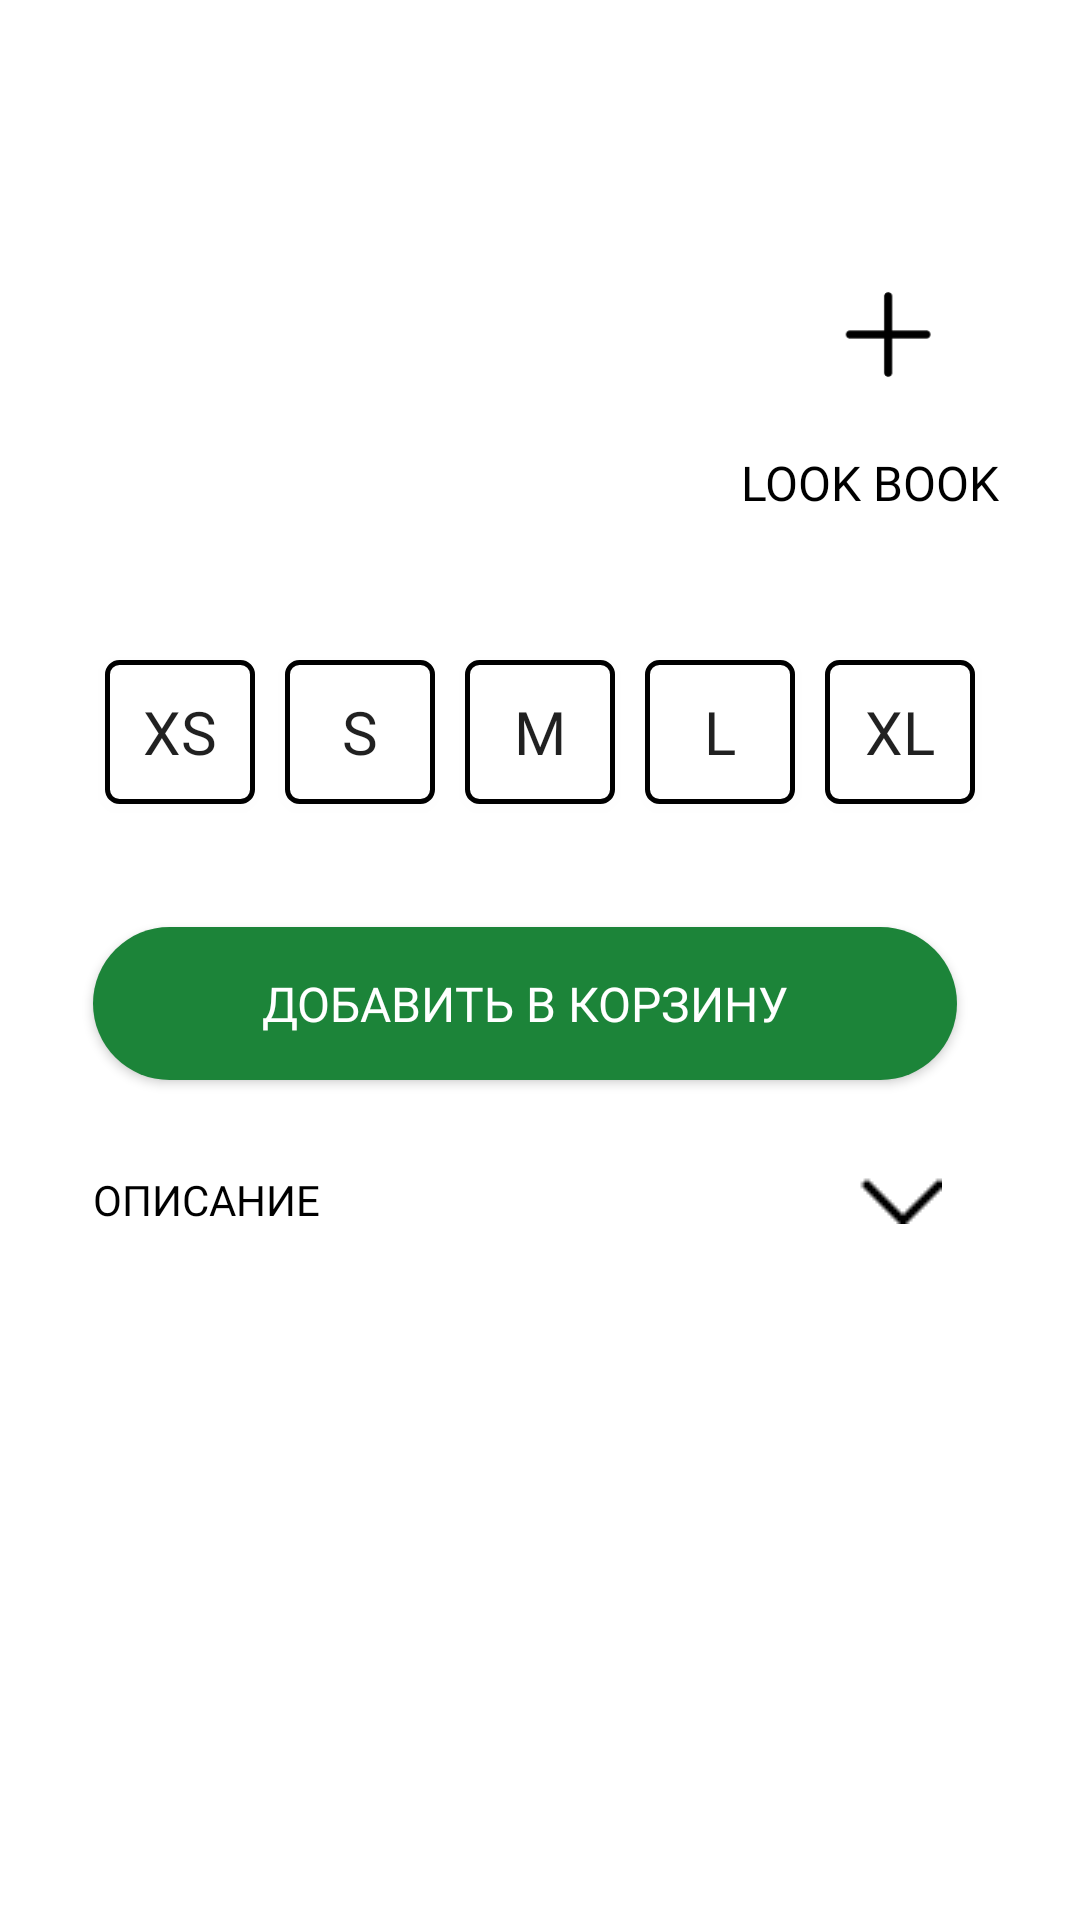

Where to tap for icons on this 1080px×1920px app screen, as [x,y]:
plus: [888,334]
